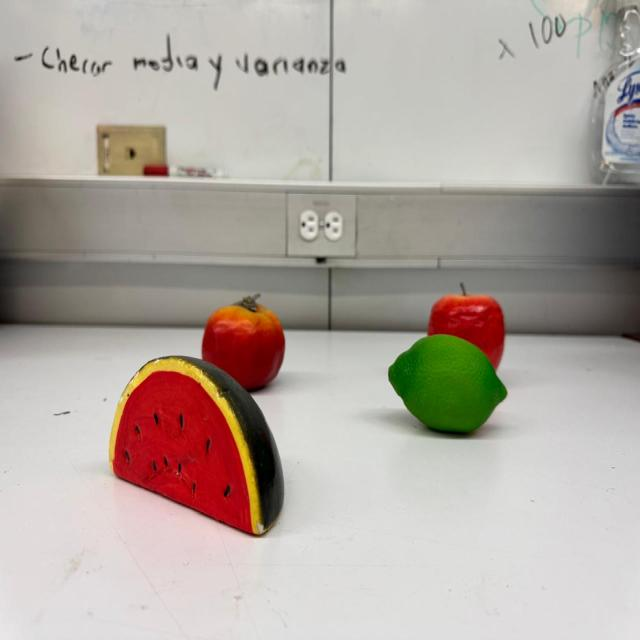apple: (426, 283, 506, 372)
lemon: (389, 335, 507, 433)
tomato: (202, 294, 285, 392)
watermelon: (108, 353, 284, 536)
